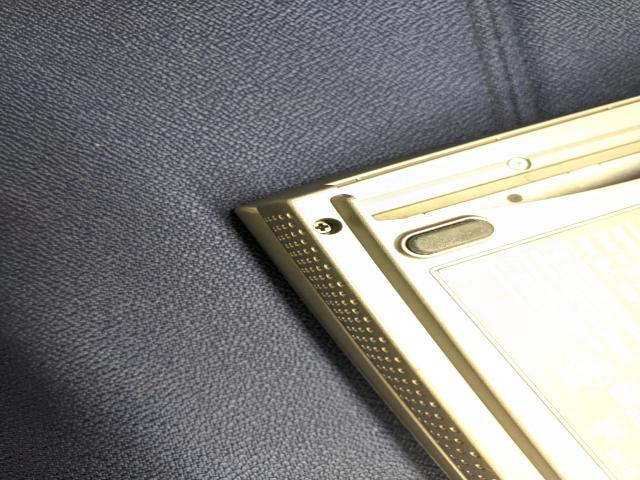CRS: (310, 220, 336, 235)
